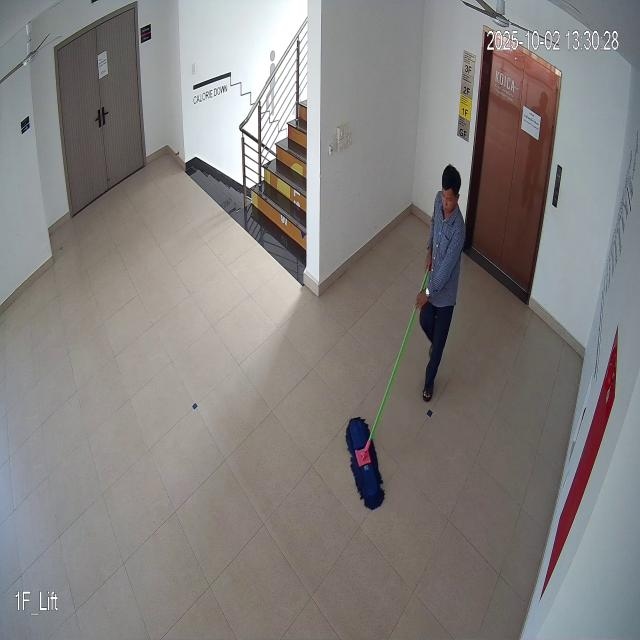face: (440, 162, 462, 222)
